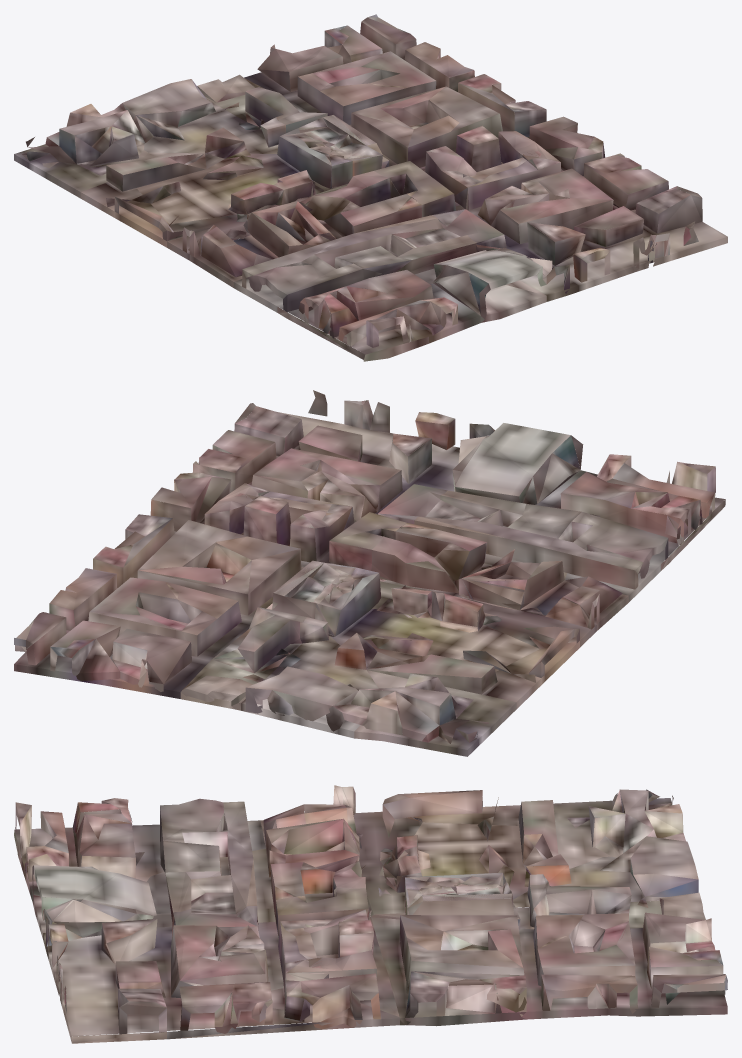
3 renders of one model, top to bottom at view 1: azimuth 30°, elevation 25°; view 2: azimuth 150°, elevation 25°; view 3: azimuth 270°, elevation 25°, orthographic. The views are drawn at different scales.
Visible parts, largest first — view 1: Mesh_0; view 2: Mesh_0; view 3: Mesh_0.
Boxes of the visible parts, x1=… form: Mesh_0: x1=14, y1=14, x2=727, y2=361; Mesh_0: x1=14, y1=390, x2=725, y2=756; Mesh_0: x1=14, y1=785, x2=727, y2=1043.
Bounding box in the file's own units: 532 × 62.08 × 660.
2 materials, 2 textured.
